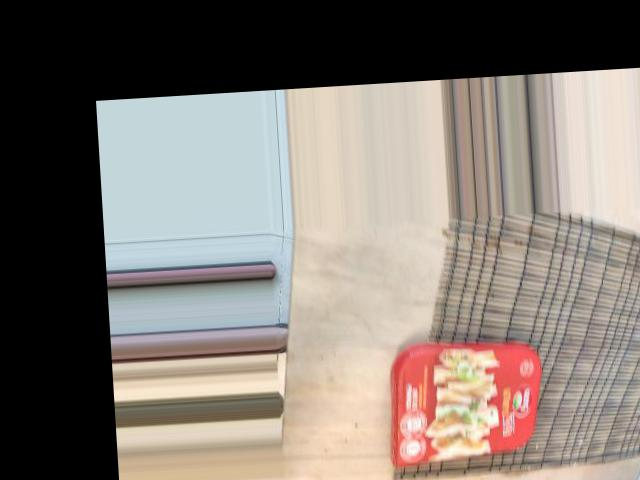cheese: (390, 204, 530, 395)
